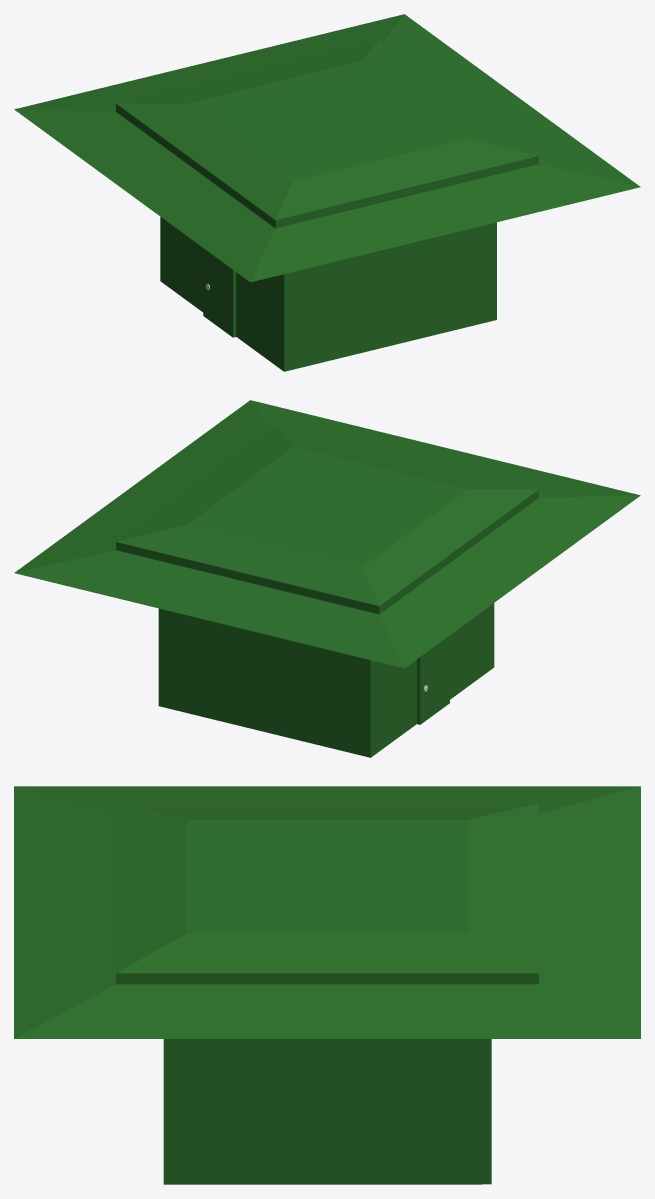
File: casaverde.glb
3 views of the same model, one above another, from view 1: azimuth 30°, elevation 25°; view 2: azimuth 150°, elevation 25°; view 3: azimuth 270°, elevation 25° (orthographic). The views are drawn at different scales.
Visible parts, largest first — view 1: Cube; view 2: Cube; view 3: Cube.
Boxes of the visible parts, x1=… form: Cube: x1=14, y1=14, x2=640, y2=371; Cube: x1=14, y1=400, x2=640, y2=757; Cube: x1=14, y1=786, x2=640, y2=1184.
Size of the model in its own units: 38.77 by 17.05 by 40.63.
